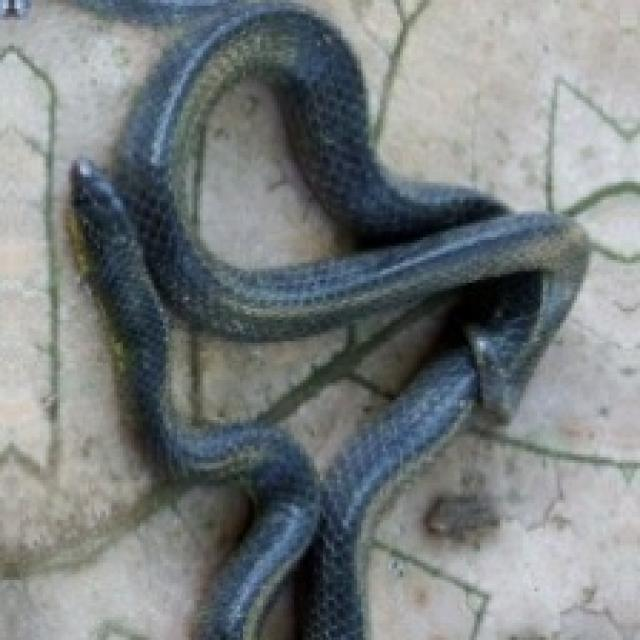gunthers philippine shrub snake: (71, 3, 586, 637), (0, 0, 246, 637), (369, 257, 637, 637), (306, 0, 637, 206), (280, 286, 463, 471), (197, 74, 351, 269), (300, 320, 420, 420), (551, 86, 623, 206)
